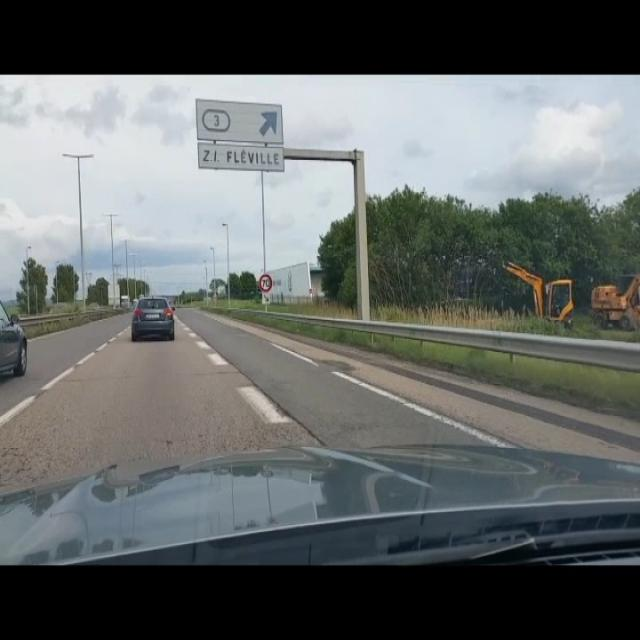direction: (196, 98, 284, 168)
side_right: (262, 293, 270, 305)
speed_70: (259, 274, 273, 293)
